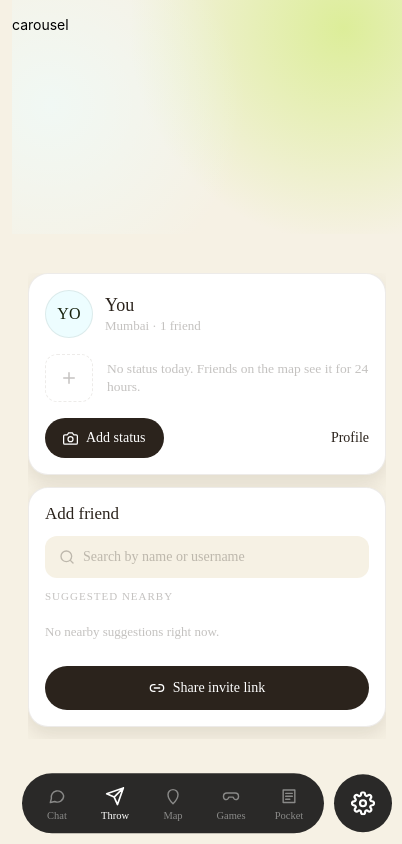
Test: ThrowHomeScreen Status slot (tilt/flick left past Own Contact) › opens the same inline capture flow when there is nothing posted yet
Click the button labelled "Add status" at (104, 438), box [45, 418, 164, 458]
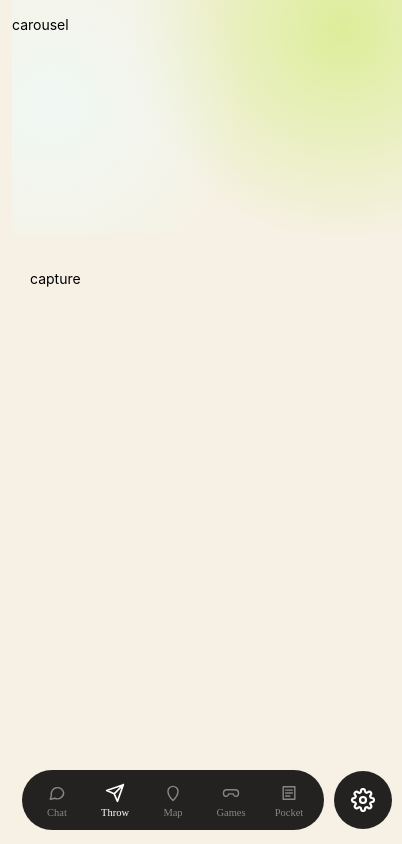
Check: the text "capture" is shown, box [30, 270, 81, 287]
